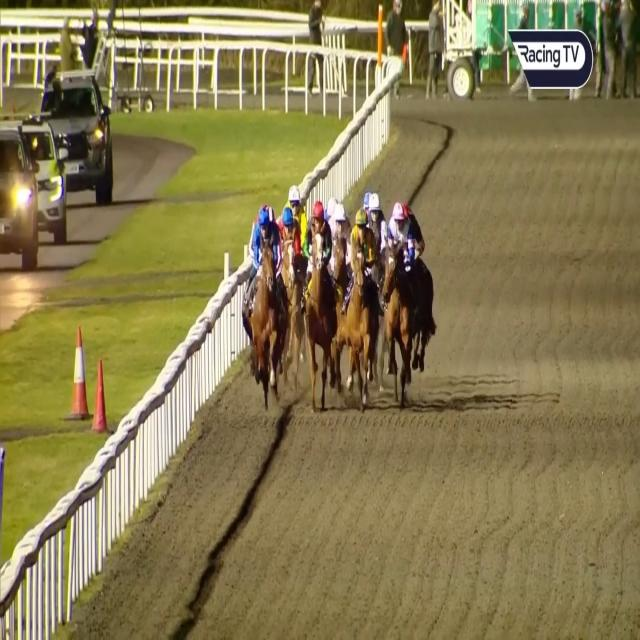horses-racing: (386, 201, 428, 409), (248, 212, 282, 396), (349, 213, 382, 398), (308, 206, 338, 398), (333, 207, 362, 343), (280, 202, 306, 308), (289, 183, 312, 255), (367, 198, 385, 270), (400, 198, 422, 251), (328, 200, 343, 234), (362, 183, 375, 219), (268, 197, 276, 233)
